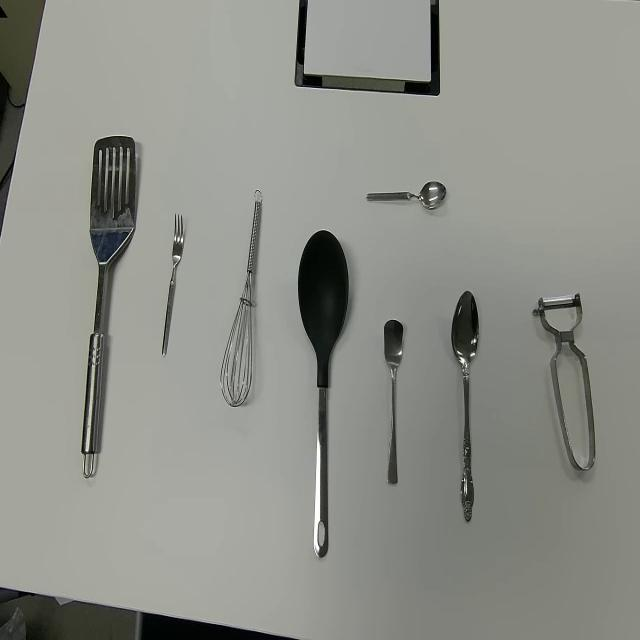Desert-Spoon: (450, 290, 480, 524)
Dinner-Fork: (161, 212, 184, 358)
Peeler: (532, 291, 596, 473)
Serving-Spoon: (81, 134, 137, 480), (296, 227, 349, 561)
Tea-Spoon: (383, 318, 404, 486), (365, 179, 447, 210)
Whisk: (220, 188, 264, 408)
